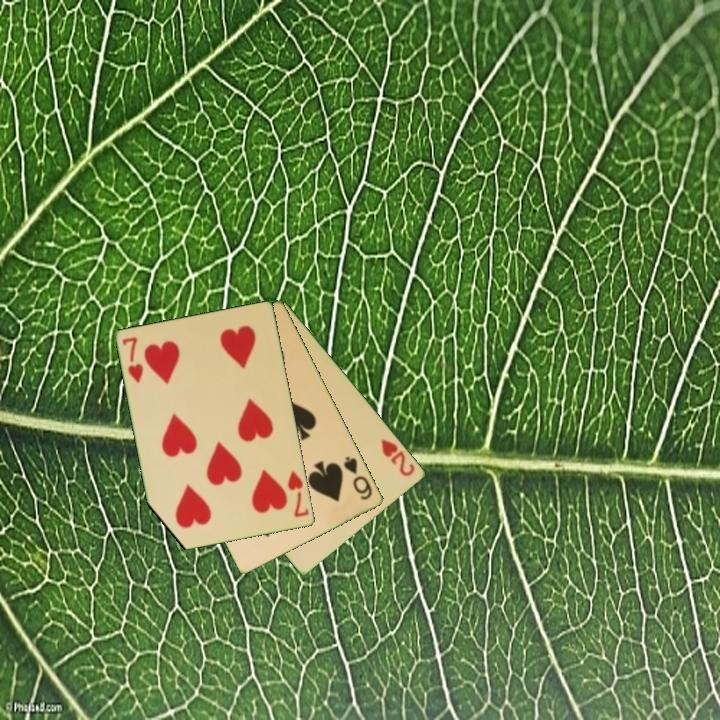2h: (378, 435, 418, 479)
6s: (340, 453, 375, 503)
7h: (284, 468, 312, 520), (119, 334, 147, 386)
